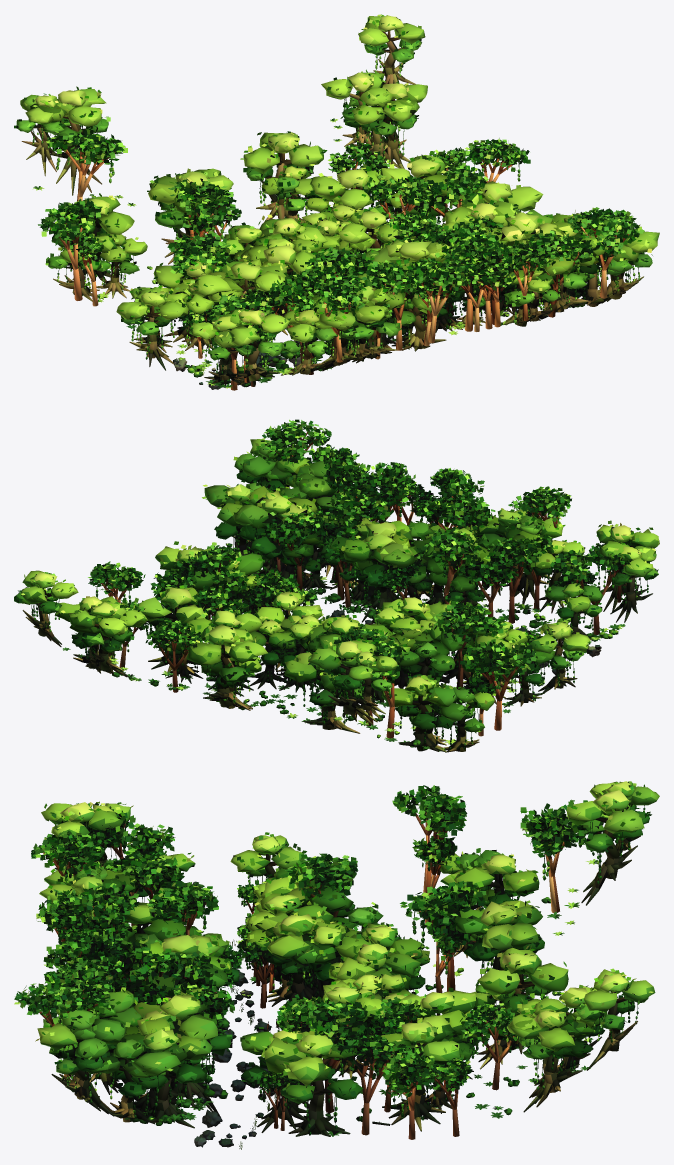
File: antes_objetos.glb
The picture shows the model from 3 angles, top to bottom: view 1: azimuth 30°, elevation 25°; view 2: azimuth 150°, elevation 25°; view 3: azimuth 270°, elevation 25°; orthographic projection. The views are drawn at different scales.
Visible parts, largest first — view 1: Objetos; view 2: Objetos; view 3: Objetos.
Part boxes in pixels (x1=…): Objetos: x1=14, y1=14, x2=659, y2=390; Objetos: x1=14, y1=419, x2=659, y2=752; Objetos: x1=14, y1=781, x2=659, y2=1149.
Size of the model in its own units: 91.96 by 30.93 by 94.4.
Materials: 1 (1 with a texture image).
